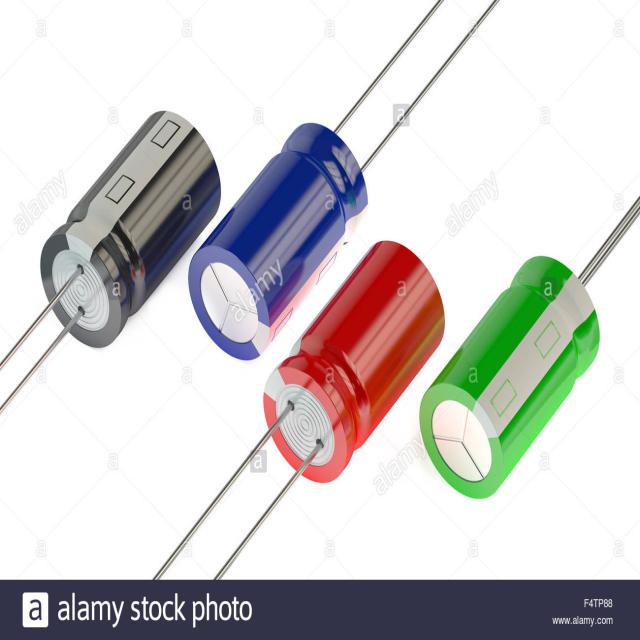Capacitor: (189, 0, 497, 360), (156, 241, 444, 580), (420, 197, 640, 498), (40, 110, 220, 347)
